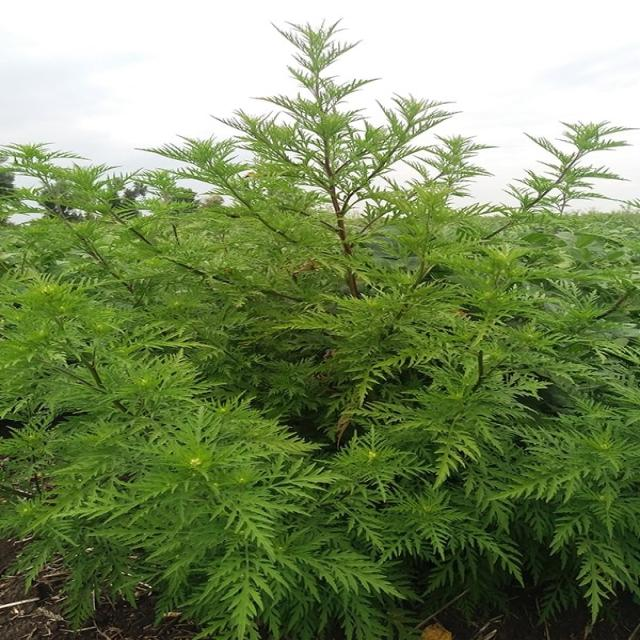ambrosia: (139, 17, 551, 302), (16, 320, 348, 620)
